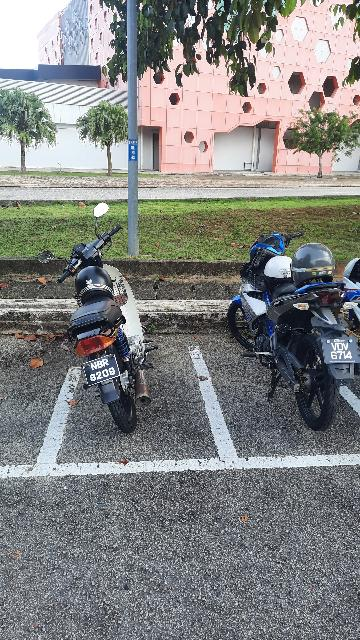License_Plate: (82, 354, 122, 388), (321, 337, 360, 368)
motorcycle: (34, 195, 172, 437), (227, 227, 356, 437)
